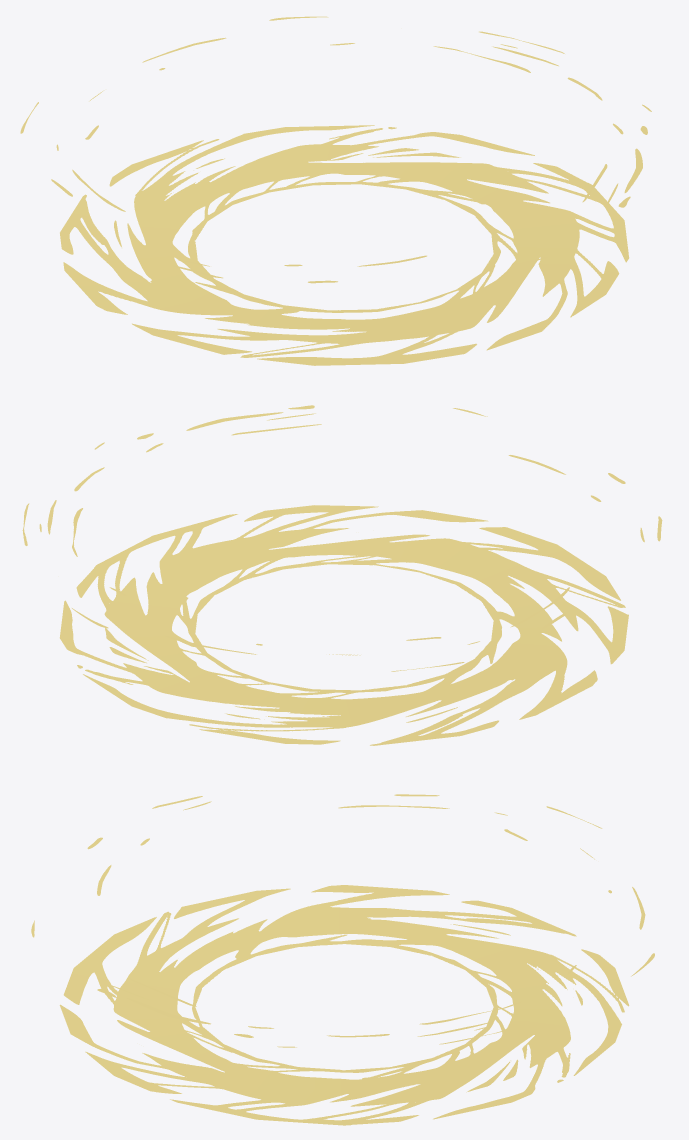
File: MDL_Cusor.fbx
3 renders of one model, top to bottom at view 1: azimuth 30°, elevation 25°; view 2: azimuth 150°, elevation 25°; view 3: azimuth 270°, elevation 25°, orthographic.
Parts seen in each view (by area): view 1: pTorus1; view 2: pTorus1; view 3: pTorus1.
Part boxes in pixels (box(x1,y1,x2,y2)): pTorus1: box(20, 16, 651, 365); pTorus1: box(22, 405, 662, 745); pTorus1: box(31, 794, 654, 1125).
Size of the model in its own units: 8.31 by 1.29 by 8.31.
